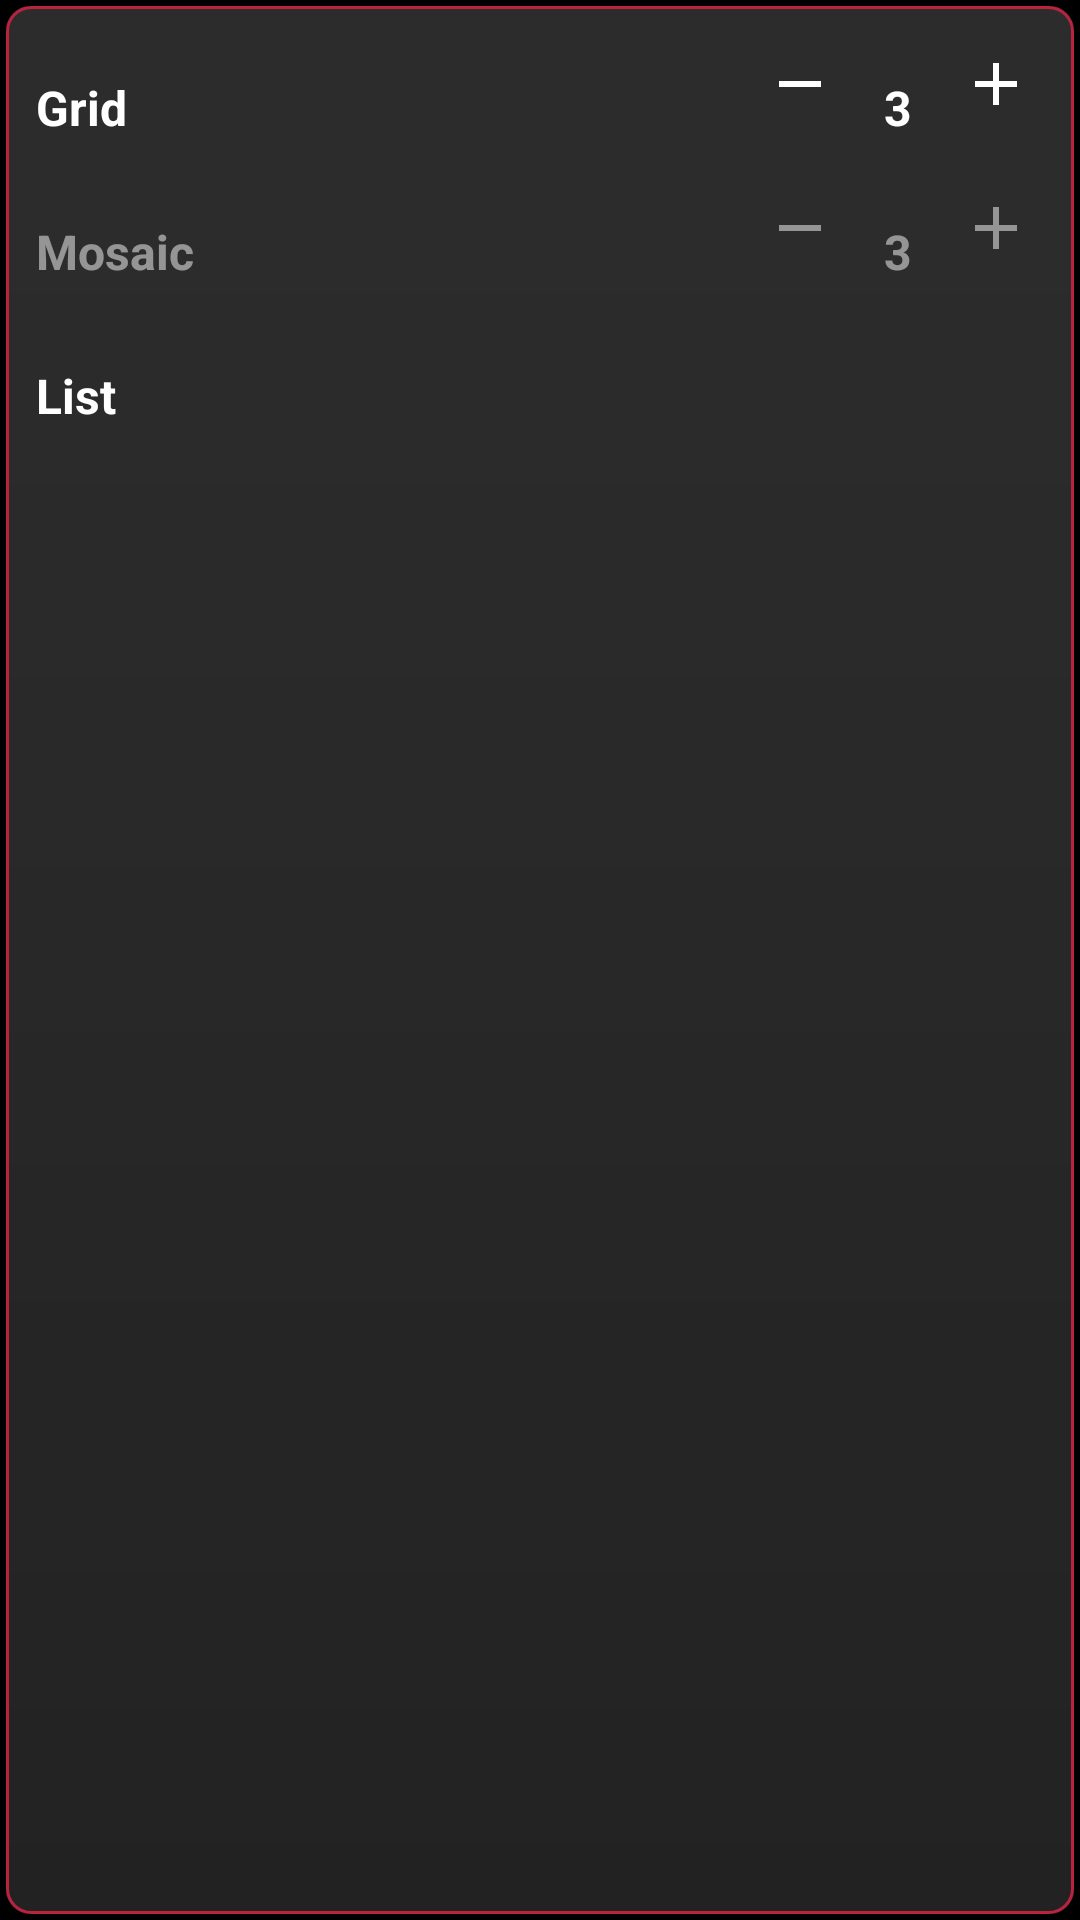

Point at icon controls on the screen. Image size 1080w x 1920h, points as point (x, y).
plus: point (996, 84), point (996, 228)
